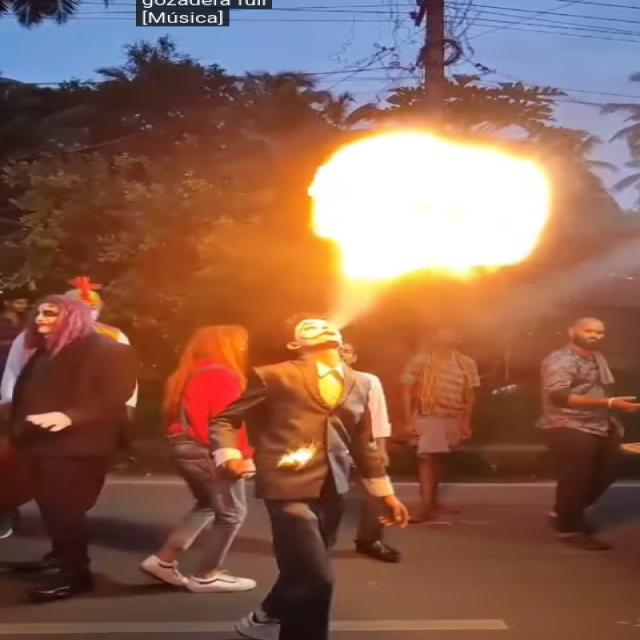fire: (309, 131, 551, 277)
